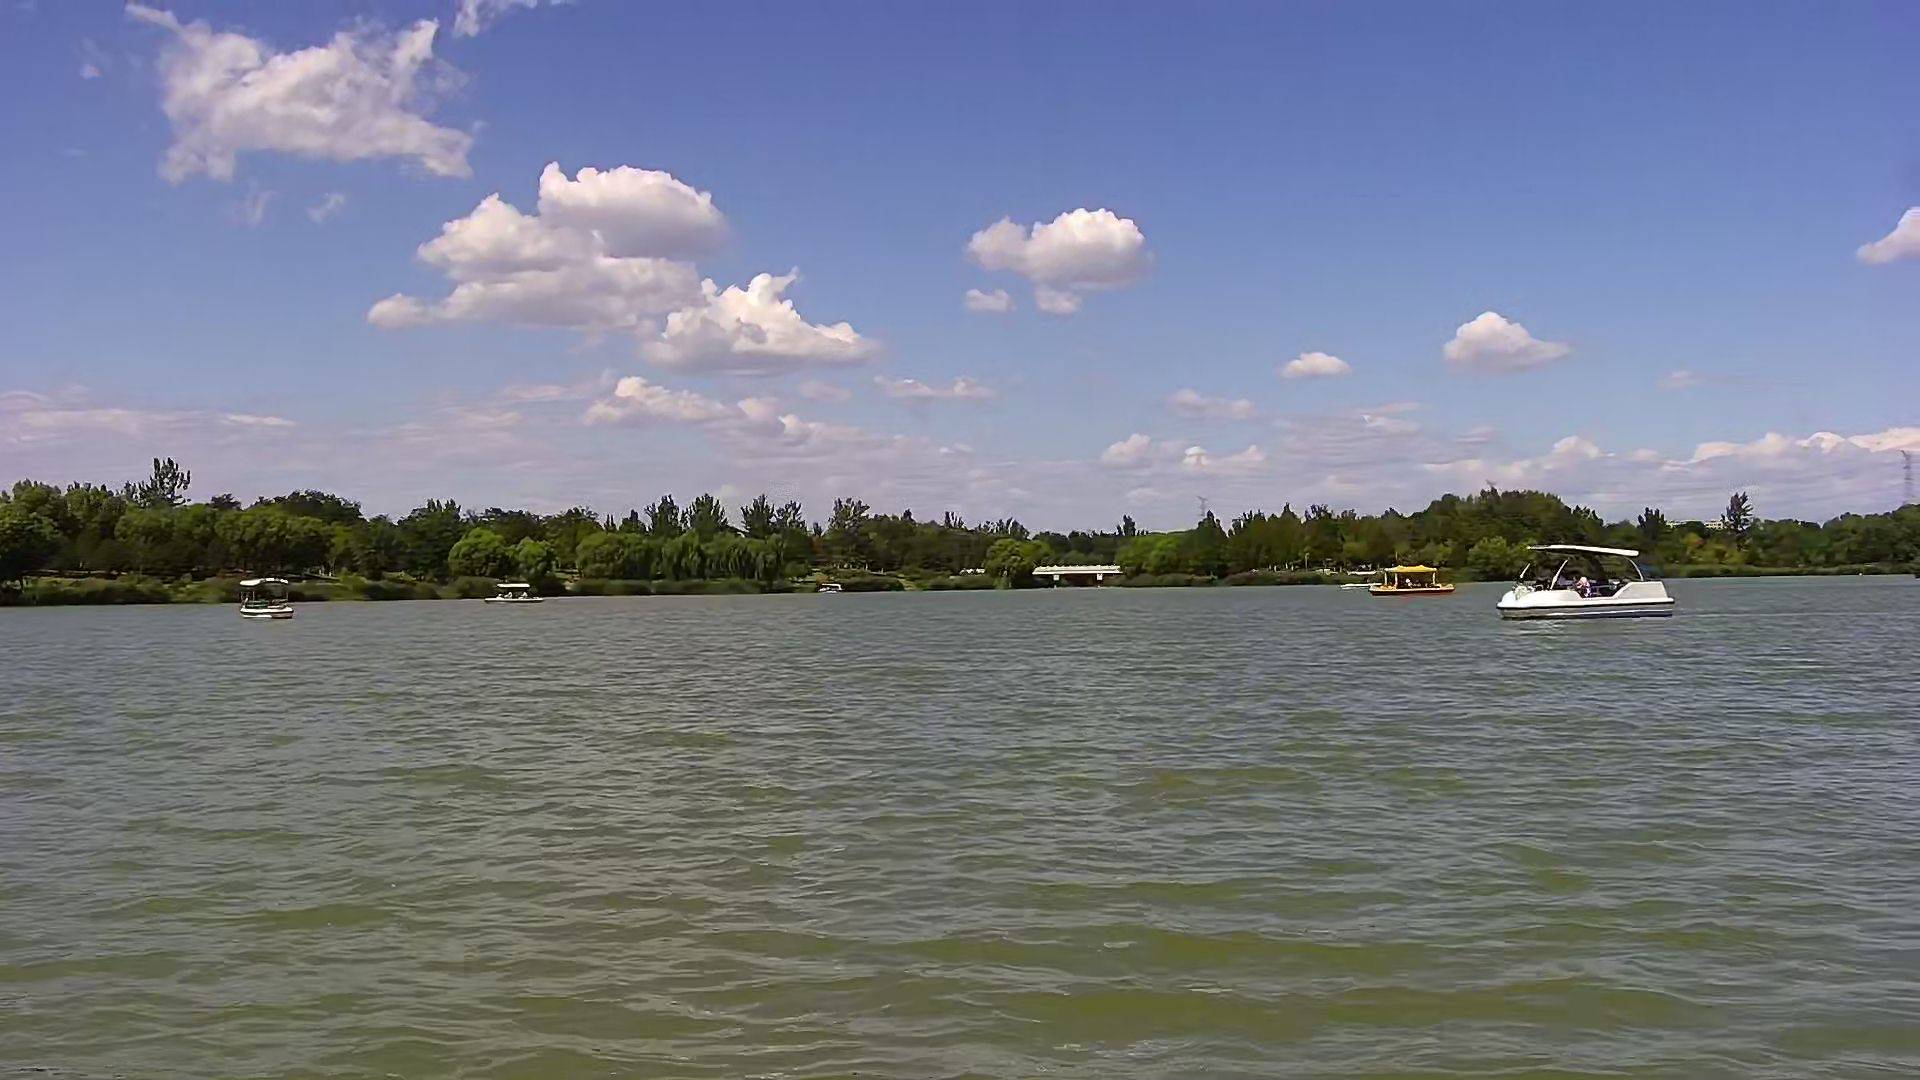boat: (1499, 534, 1673, 615), (237, 571, 291, 618), (1379, 567, 1451, 593), (488, 579, 545, 605), (1341, 571, 1393, 589)
bridge: (1033, 564, 1121, 593)
